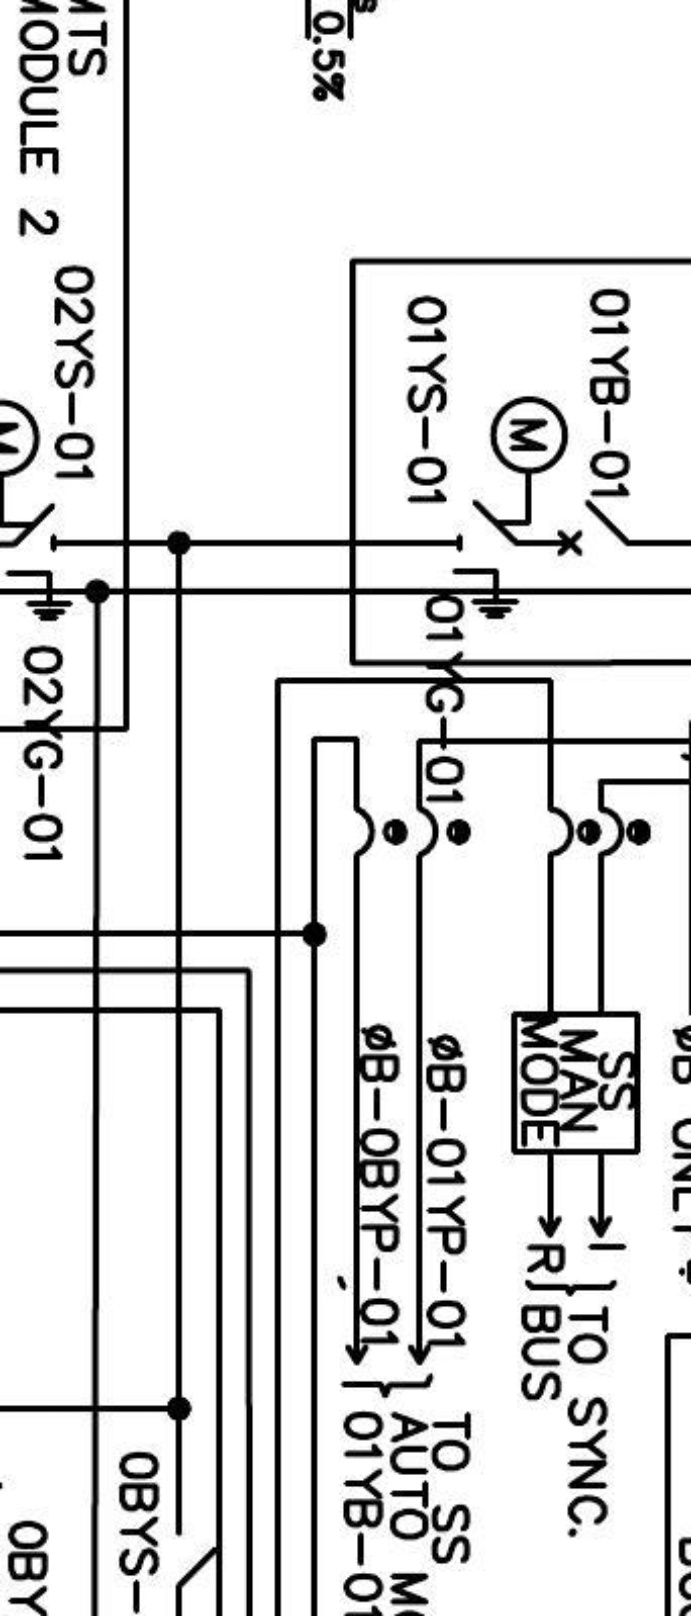115_3ways_ds_w_motor: (451, 395, 569, 621)
115_breaker: (556, 497, 631, 558)
115_ds: (175, 1528, 216, 1588)
ss_man_mode: (509, 1009, 643, 1158)
